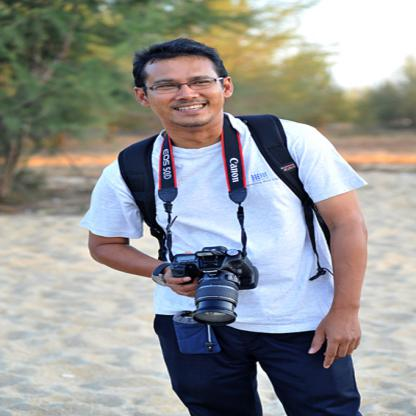Camera: (166, 246, 263, 313)
